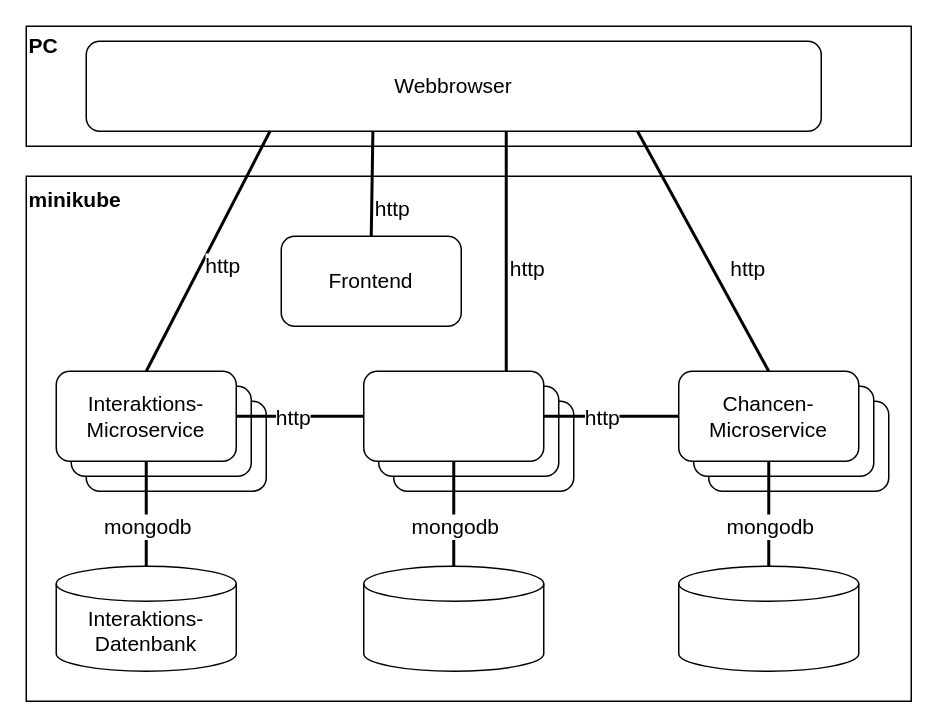
The diagram is 938 pixels wide and 728 high, and some of its shapes have lost their labels. Each missing label, with the centre of its shape:
"Chancen-Datenbank" goes at point 768,618.
"Kontakt-Datenbank" goes at point 453,618.
"Kontakt-Microservice" goes at point 453,415.
